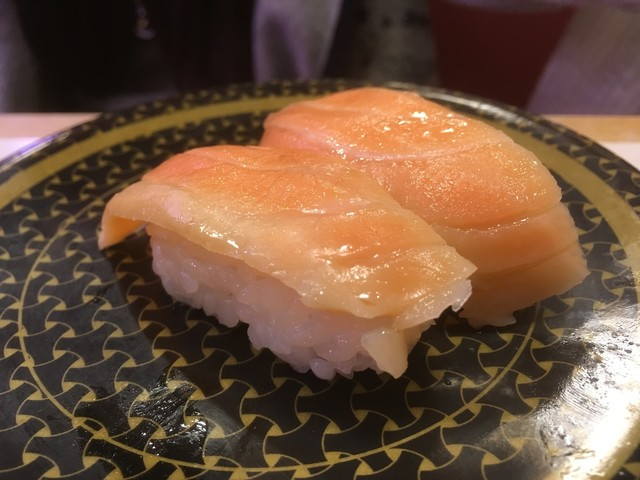salmon: (91, 140, 479, 388)
